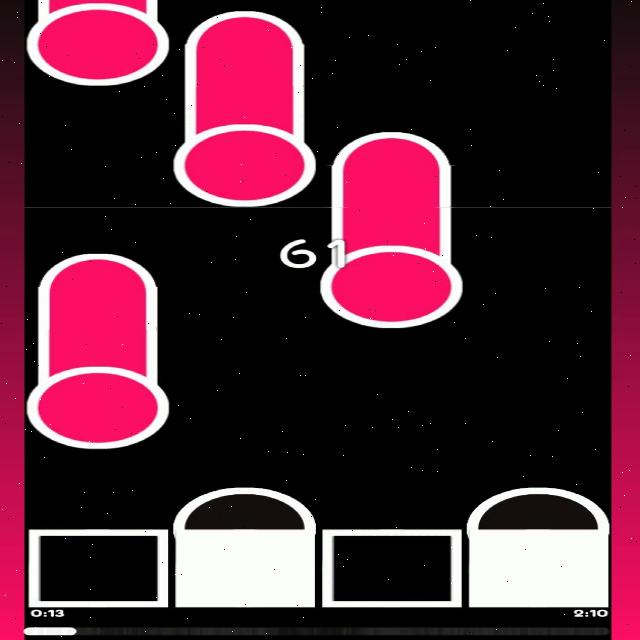end_hold: (331, 123, 456, 173), (186, 1, 306, 52), (41, 246, 155, 296)
note: (176, 486, 318, 530), (471, 486, 609, 530)
start_hold: (318, 224, 469, 330), (170, 111, 324, 209), (28, 351, 168, 446), (25, 0, 173, 84)
